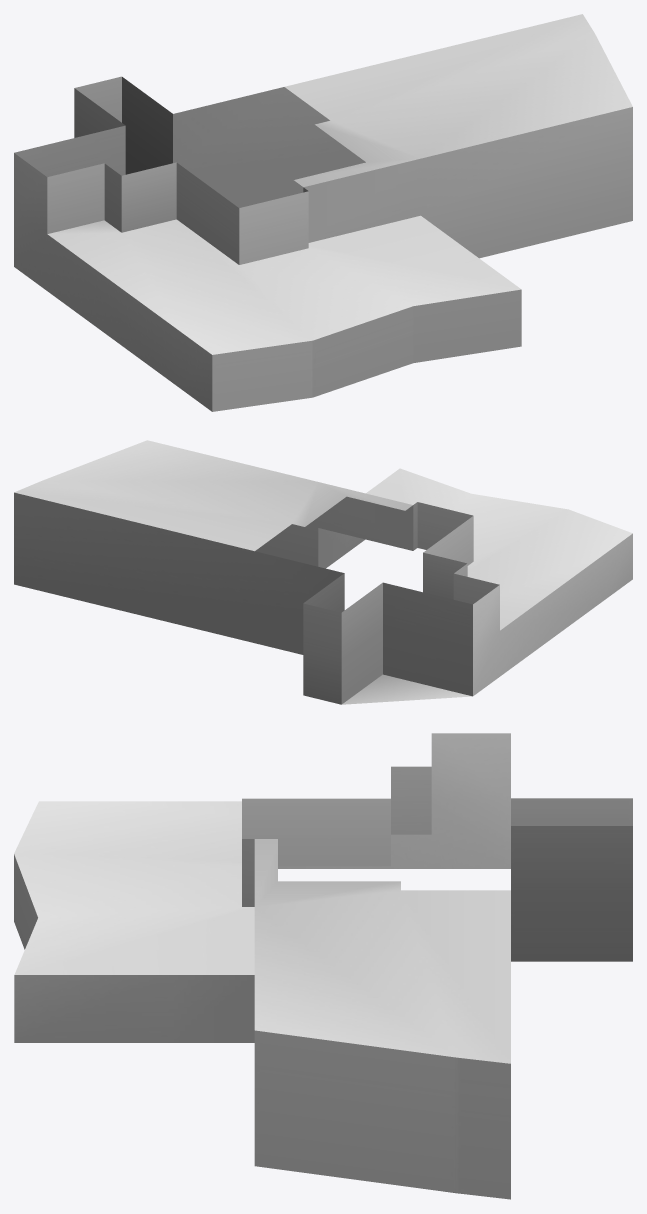
Rendered from etageV1.1No2.dae.
3 renders of one model, top to bottom at view 1: azimuth 30°, elevation 25°; view 2: azimuth 150°, elevation 25°; view 3: azimuth 270°, elevation 25°, orthographic. The views are drawn at different scales.
Parts seen in each view (by area): view 1: Mesh_004; view 2: Mesh_004; view 3: Mesh_004.
Part boxes in pixels (x1,y1,x2,y2): Mesh_004: (14, 14, 632, 411); Mesh_004: (14, 440, 632, 704); Mesh_004: (14, 733, 632, 1199).
Size of the model in its own units: 19.57 by 15.49 by 3.75.
3 materials, 3 textured.
